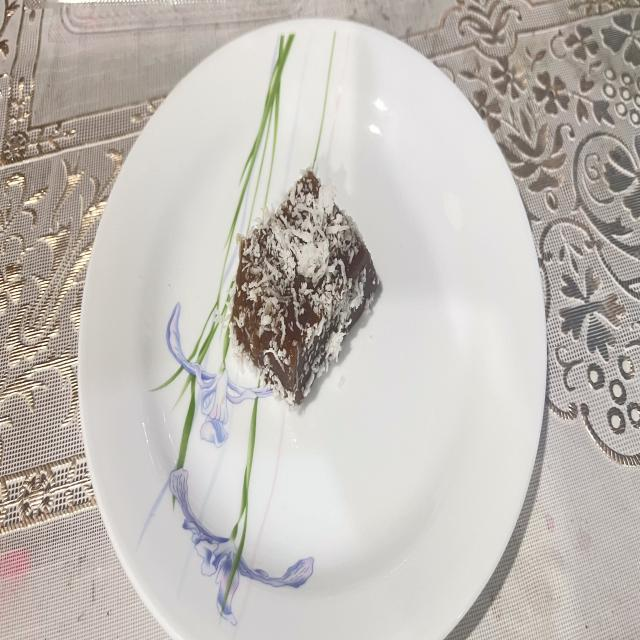kaswi: (230, 169, 379, 404)
